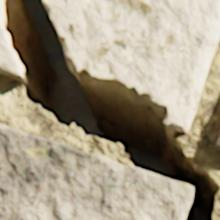brick: (0, 125, 193, 219), (216, 135, 219, 150)
broken_brick: (43, 0, 219, 134), (0, 0, 25, 81)
crack: (1, 0, 219, 219)
